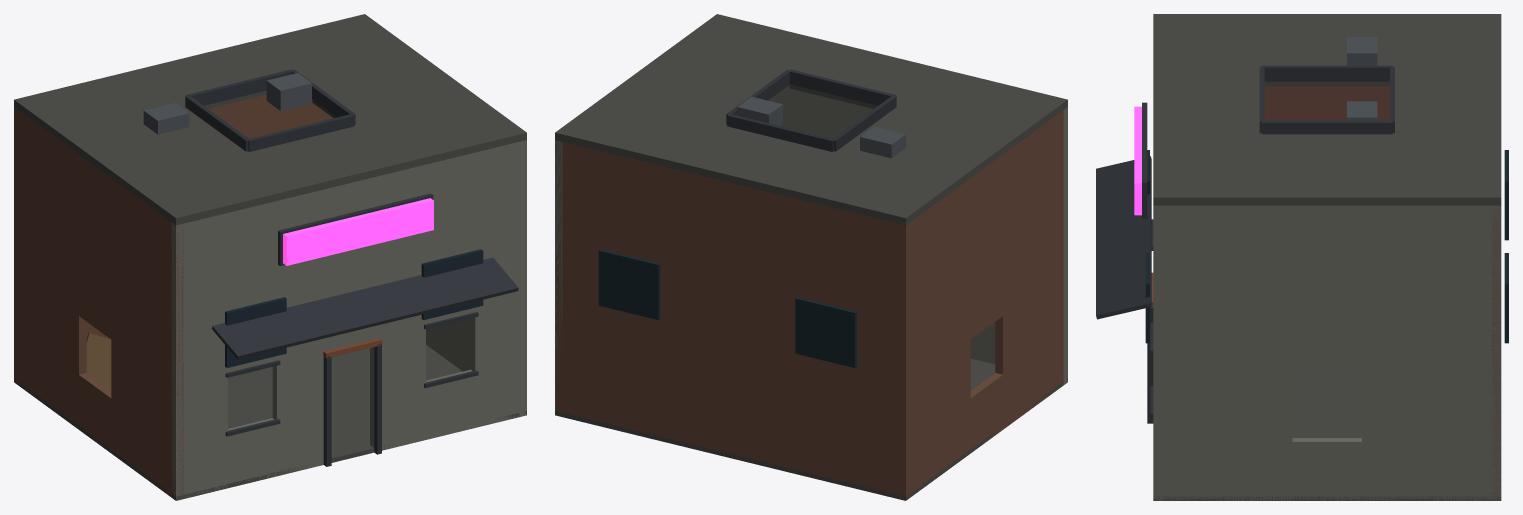
File: shop_garage.glb
3 views of the same model, side by side, from view 1: azimuth 30°, elevation 25°; view 2: azimuth 150°, elevation 25°; view 3: azimuth 270°, elevation 25° (orthographic). The views are drawn at different scales.
Parts seen in each view (by area): view 1: shop_garage; view 2: shop_garage; view 3: shop_garage.
Part boxes in pixels (x1=…): shop_garage: x1=14, y1=14, x2=526, y2=500; shop_garage: x1=555, y1=14, x2=1067, y2=500; shop_garage: x1=1096, y1=14, x2=1508, y2=500.
Size of the model in its own units: 10 by 8.18 by 9.5.
